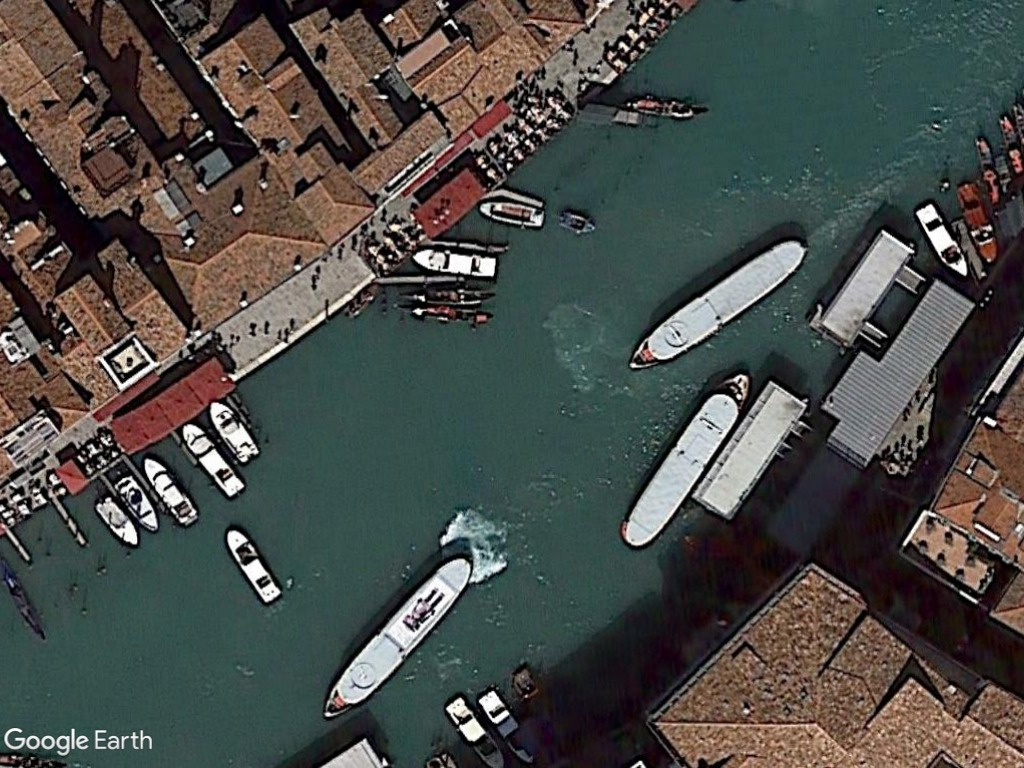boat: (610, 369, 759, 555), (318, 552, 479, 724), (623, 237, 810, 372), (475, 683, 543, 765), (180, 421, 248, 500), (224, 524, 286, 608), (440, 692, 508, 768), (912, 197, 972, 280), (141, 452, 200, 529), (955, 178, 1001, 265), (206, 398, 263, 468), (410, 244, 503, 285), (91, 493, 144, 554), (111, 473, 163, 532), (475, 198, 549, 231)
